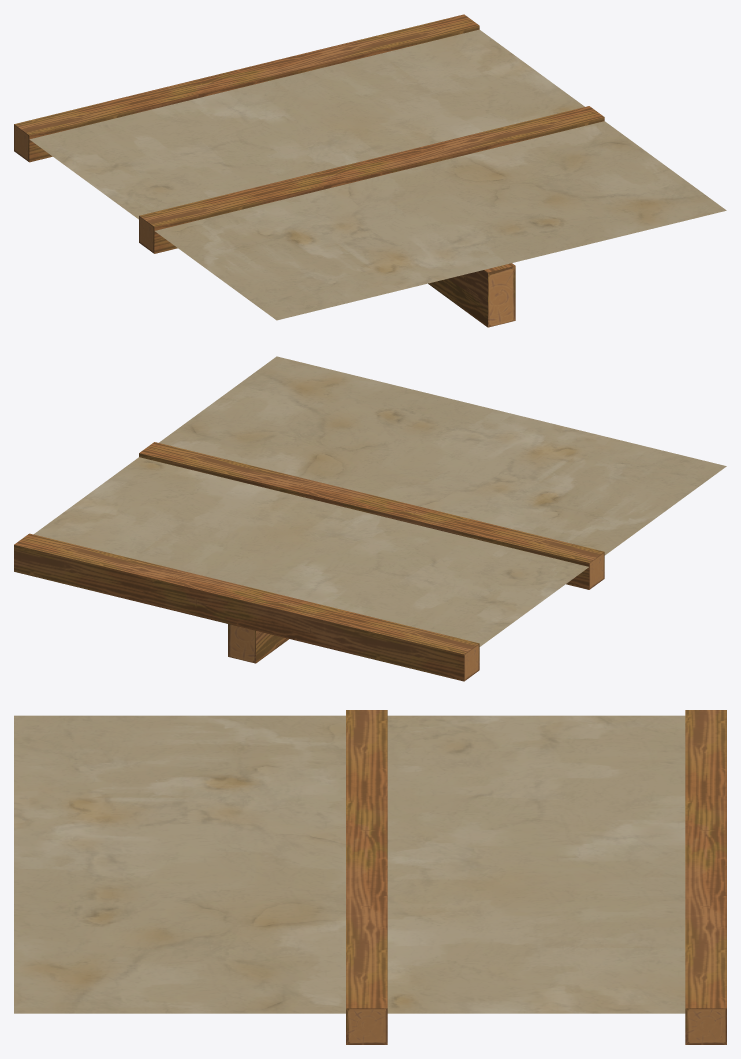
File: Overhang_Roof_Plaster.gltf
The picture shows the model from 3 angles, top to bottom: view 1: azimuth 30°, elevation 25°; view 2: azimuth 150°, elevation 25°; view 3: azimuth 270°, elevation 25°; orthographic projection. The views are drawn at different scales.
Visible parts, largest first — view 1: Overhang_Roof_Plaster; view 2: Overhang_Roof_Plaster; view 3: Overhang_Roof_Plaster.
Boxes of the visible parts, x1,y1,x2,y2 form: Overhang_Roof_Plaster: [14, 14, 726, 327]; Overhang_Roof_Plaster: [14, 356, 726, 681]; Overhang_Roof_Plaster: [14, 710, 726, 1044].
Bounding box in the file's own units: 2 × 0.2659 × 2.02.
Materials: 2 (2 with a texture image).
